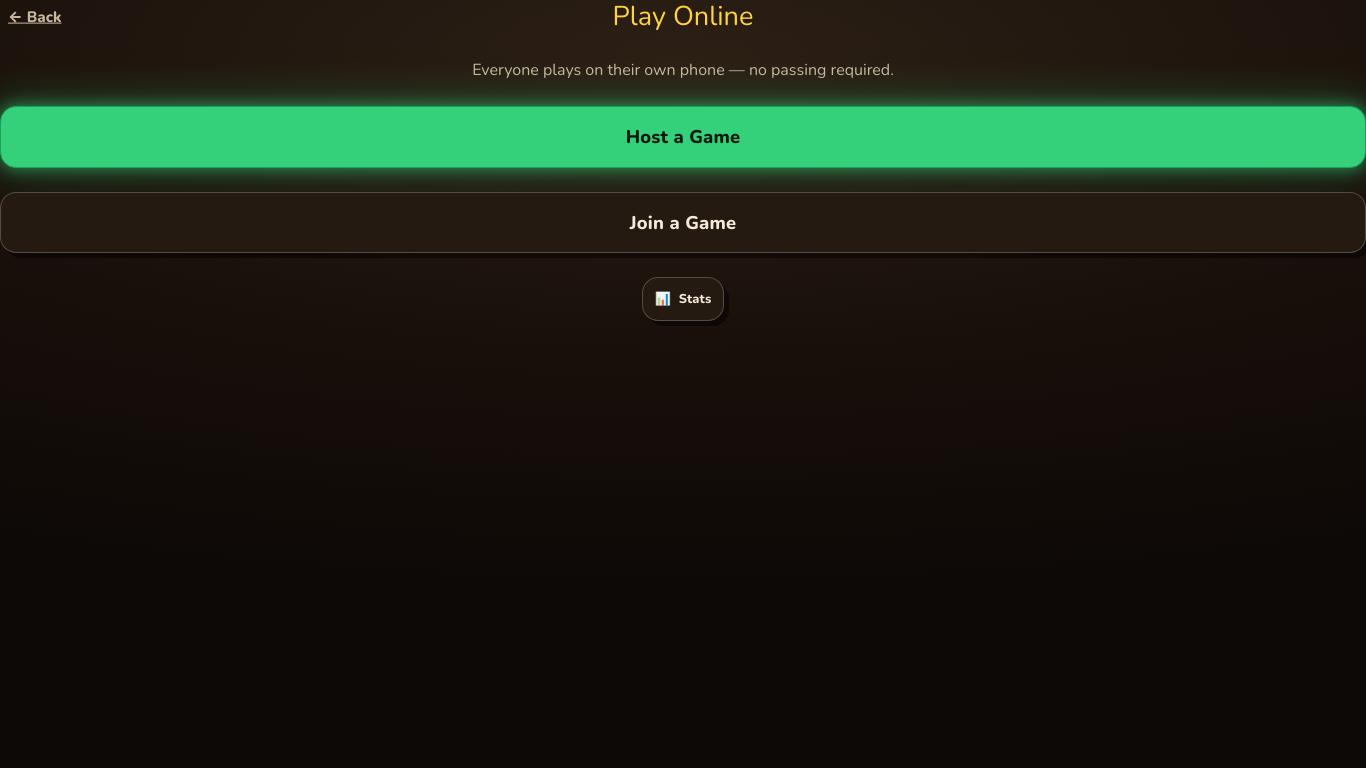
MultiplayerHomeScreen › opens and closes WordStatsSheet when Stats button is clicked
The width and height of the screenshot is (1366, 768).
Click the button "📊 Stats" at (683, 299), box [642,277,724,321]
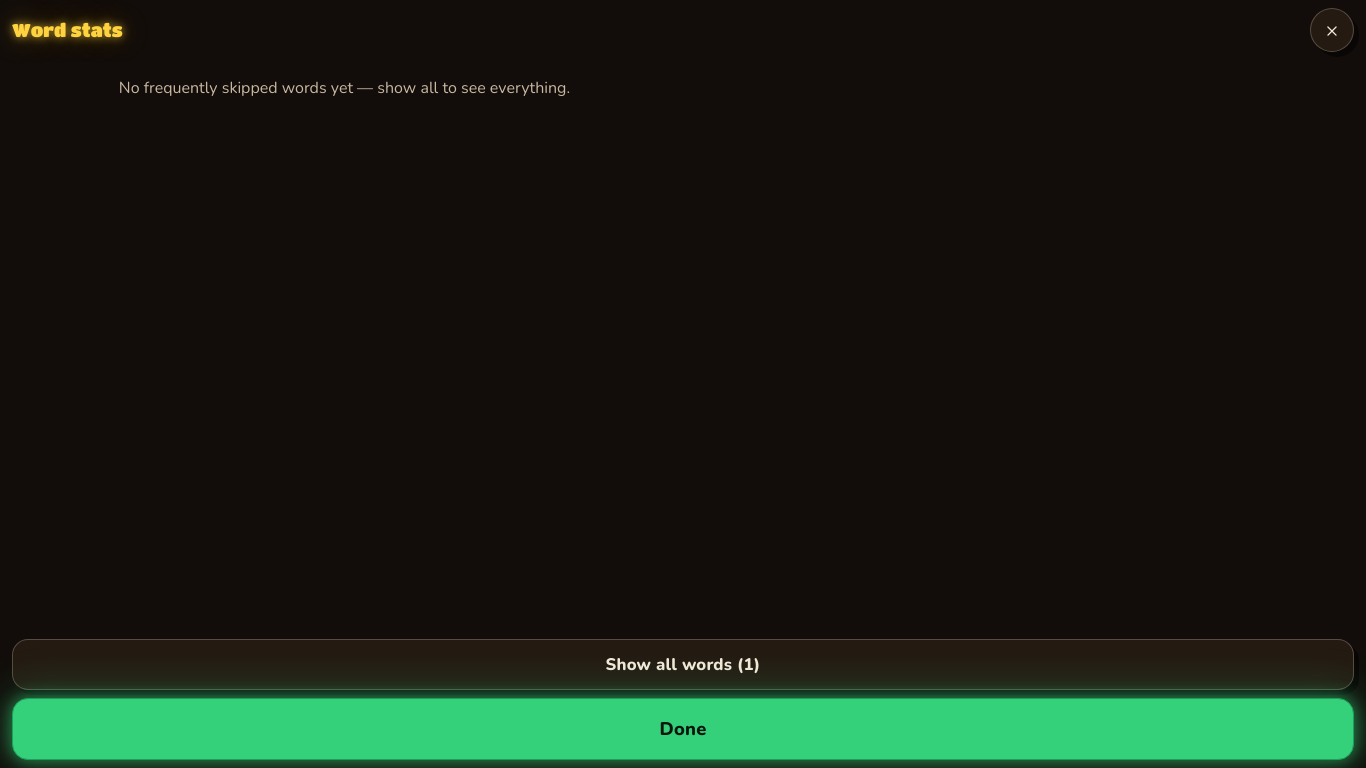
Expected: the text "Word stats" is shown, [12,16,123,44]
Click the button named "close word stats" at (1332, 30), box [1310,8,1354,52]
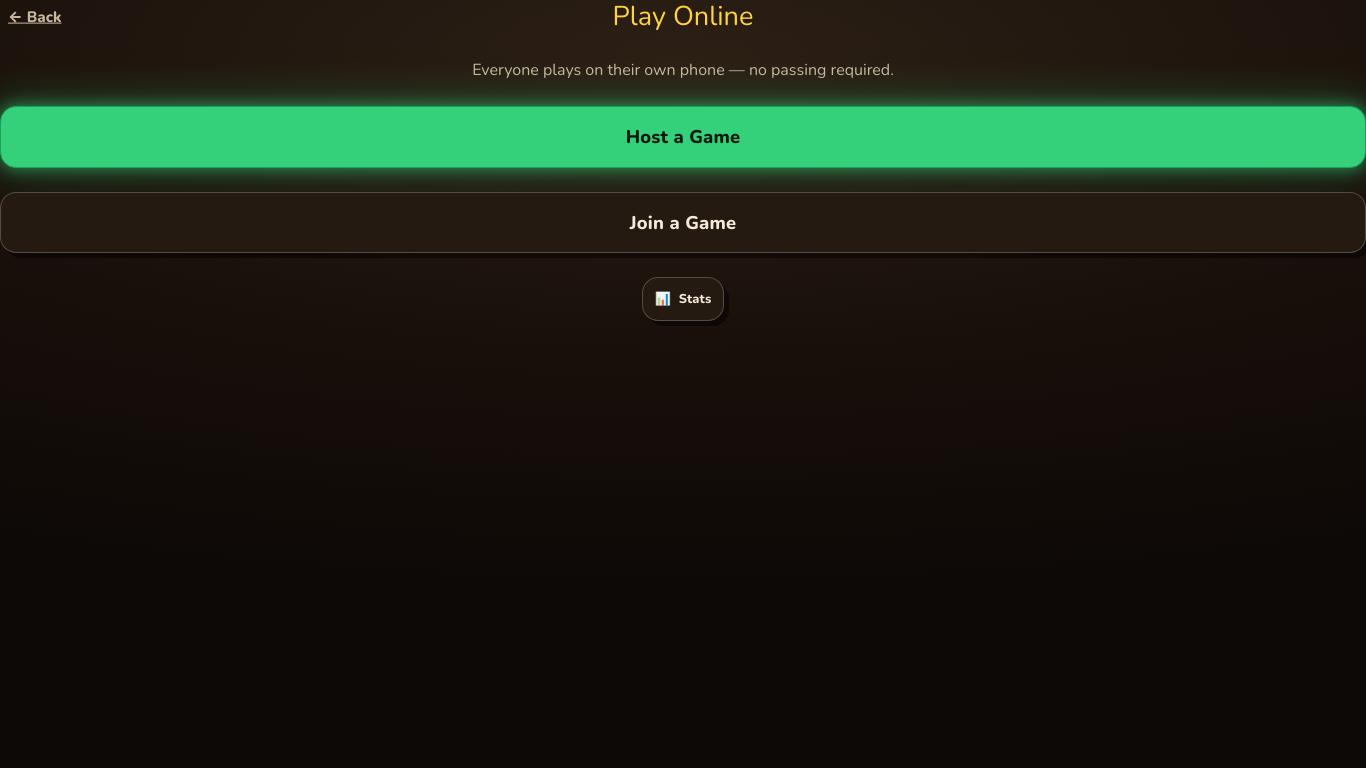
Expected: the text "Word stats" is gone
